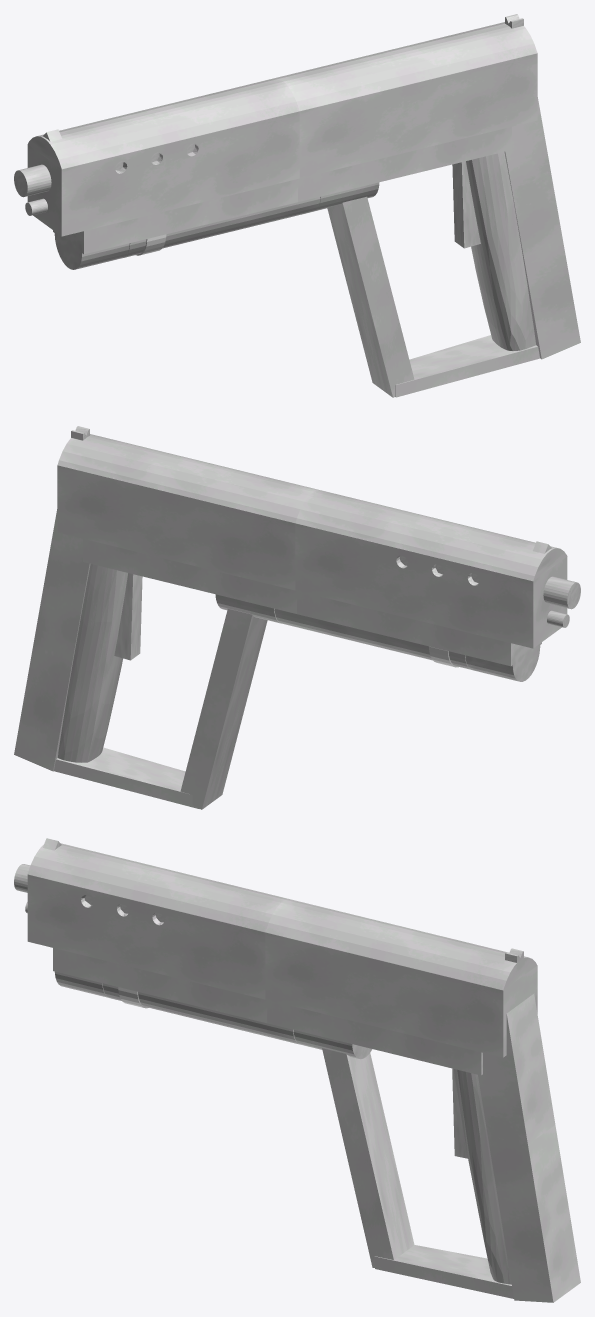
File: MTF-S-P.fbx
3 views of the same model, one above another, from view 1: azimuth 30°, elevation 25°; view 2: azimuth 150°, elevation 25°; view 3: azimuth 330°, elevation 25° (orthographic).
Visible parts, largest first — view 1: node_id8, node_id13; view 2: node_id8, node_id13; view 3: node_id8, node_id13.
Boxes of the visible parts, x1,y1,x2,y2 form: node_id8: (14, 14, 580, 397); node_id13: (124, 196, 320, 257); node_id8: (14, 426, 580, 809); node_id13: (274, 609, 471, 669); node_id8: (14, 838, 580, 1302); node_id13: (102, 983, 299, 1044).
Size of what is drawn, in the model's own units: 0.512 by 0.3047 by 0.0557.
6 materials, 4 textured.
